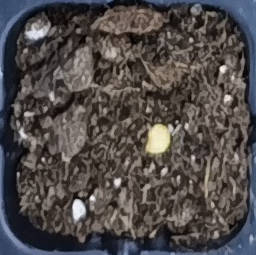pepper seed: (59, 45, 230, 201)
